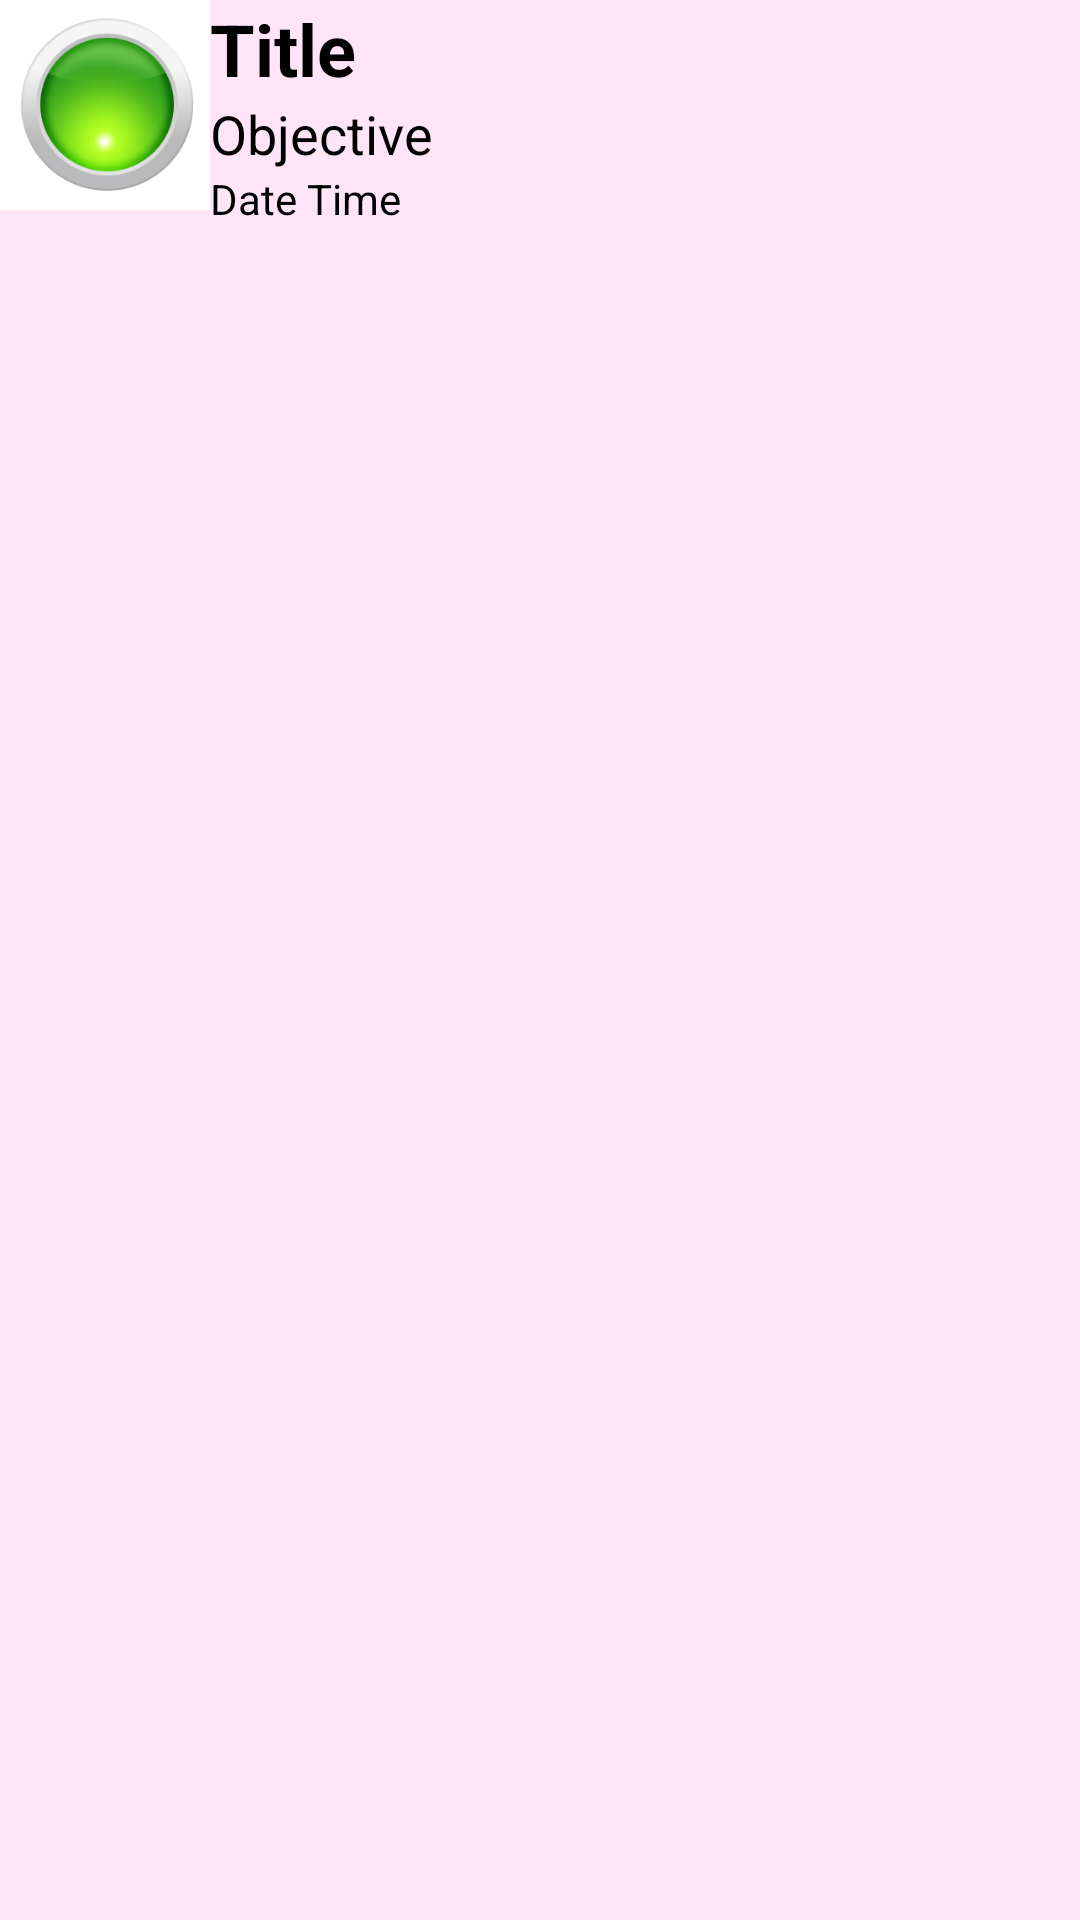

Screen size 1080*1920. Icon name, then its center in pixels as (x,y):
circlegreen: (105,105)
